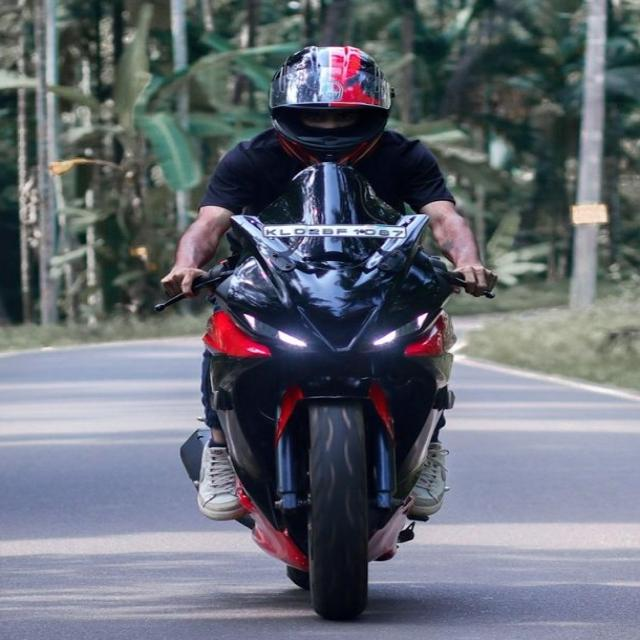Numberplate: (264, 222, 414, 239)
bike: (93, 42, 587, 640)
helmet: (233, 30, 424, 153)
